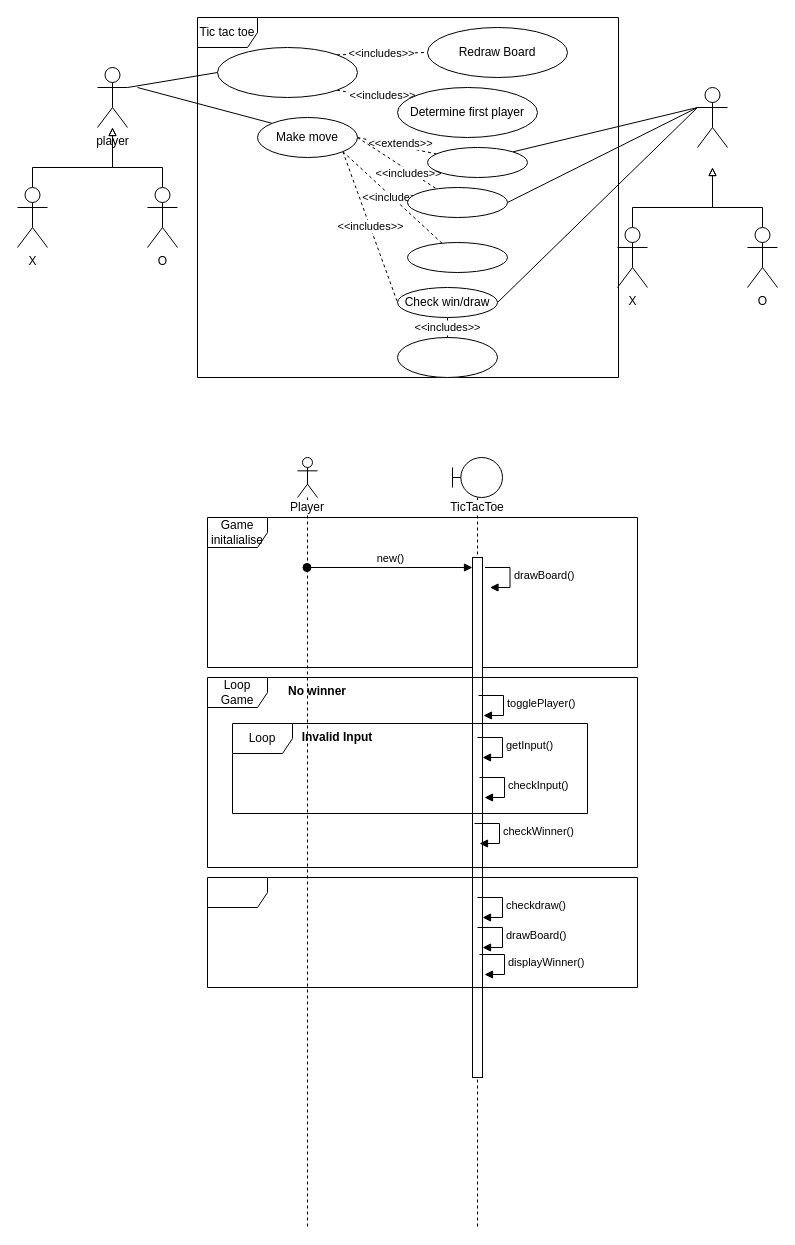
Image size: 795x1245. Some labels were removed from this diagram. The centre of each missing label's shape, as x and y in pixels:
Acknowledge Winner/Draw: (x=447, y=357)
check valid move: (x=457, y=202)
Game ending: (x=422, y=932)
Game initialisation: (x=287, y=72)
GameRef: (x=712, y=117)
toggle player: (x=477, y=162)
write down move: (x=457, y=257)
